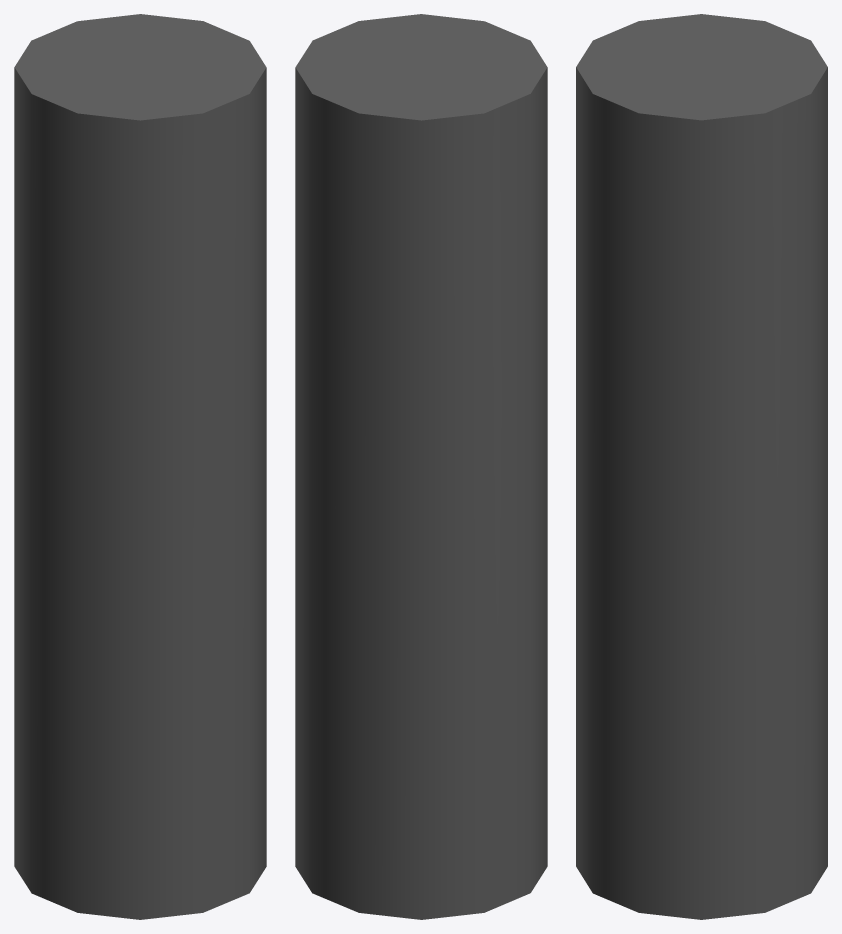
File: SM_RocketHolder.fbx
3 renders of one model, left to right at view 1: azimuth 30°, elevation 25°; view 2: azimuth 150°, elevation 25°; view 3: azimuth 270°, elevation 25°, orthographic.
Parts seen in each view (by area): view 1: RocketBottom; view 2: RocketBottom; view 3: RocketBottom.
Part boxes in pixels (x1=…): RocketBottom: x1=14, y1=14, x2=266, y2=919; RocketBottom: x1=295, y1=14, x2=547, y2=919; RocketBottom: x1=576, y1=14, x2=827, y2=919.
Size of the model in its own units: 0.5623 by 1.97 by 0.5623.
Materials: 1 (1 with a texture image).
